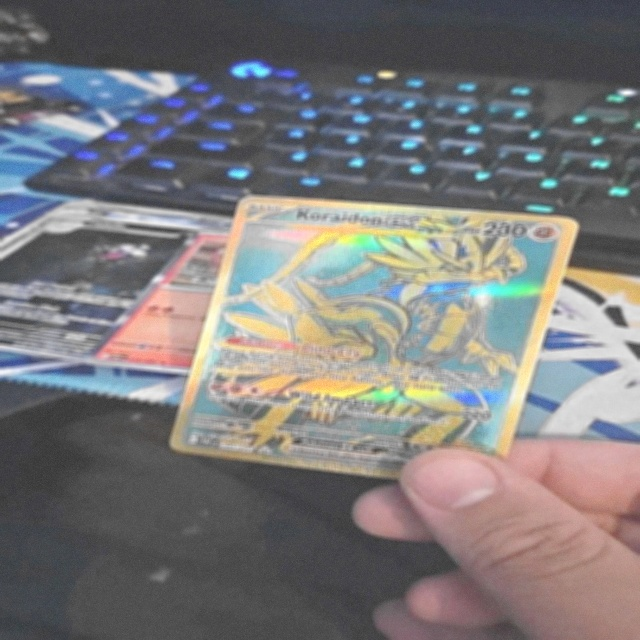card: (168, 194, 580, 479), (0, 214, 202, 362), (84, 229, 229, 374)
